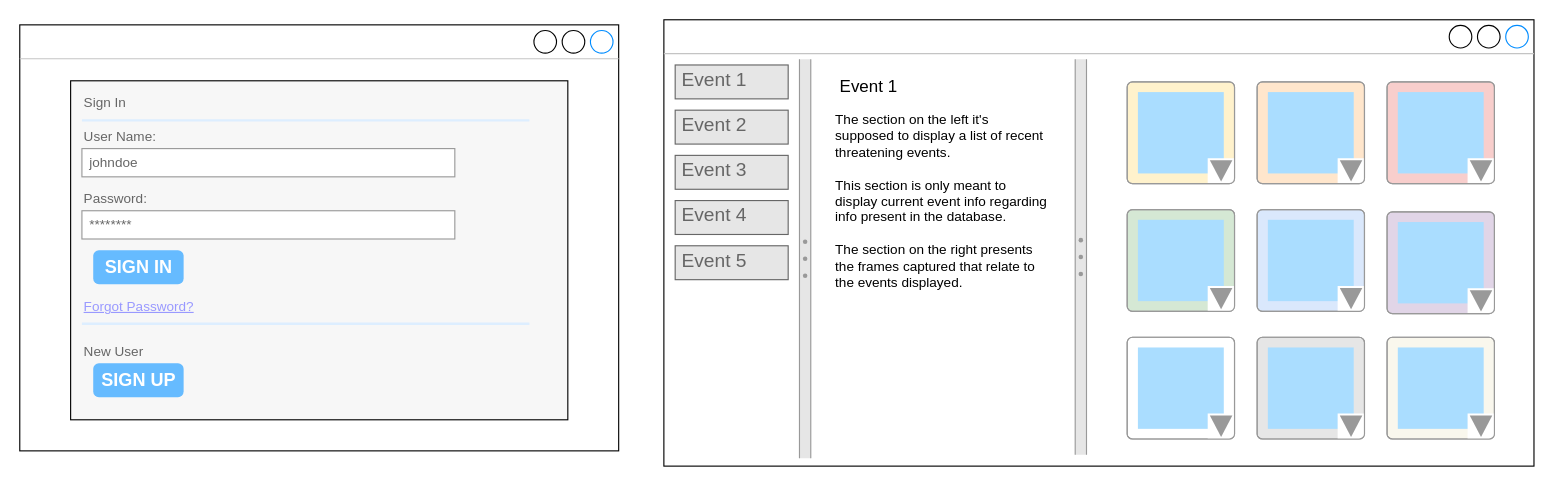
This 1554x486 diagram has some shape labels left out. Here are the shapes that lost their labels. From the top down, the box of each, then its label:
(19, 24, 619, 451): Login Window
(663, 19, 1534, 466): Event Window
